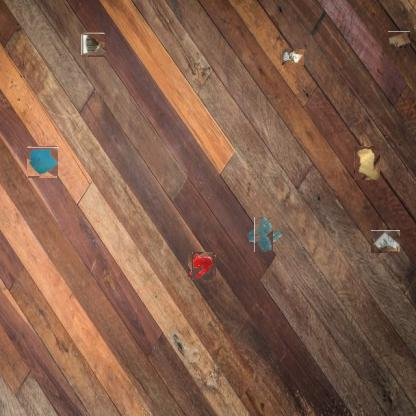dirty: (27, 147, 58, 177), (354, 146, 380, 180), (370, 230, 400, 253), (82, 33, 106, 56), (388, 31, 410, 48), (282, 49, 304, 65)
liquid: (250, 221, 278, 248), (190, 254, 214, 279)
